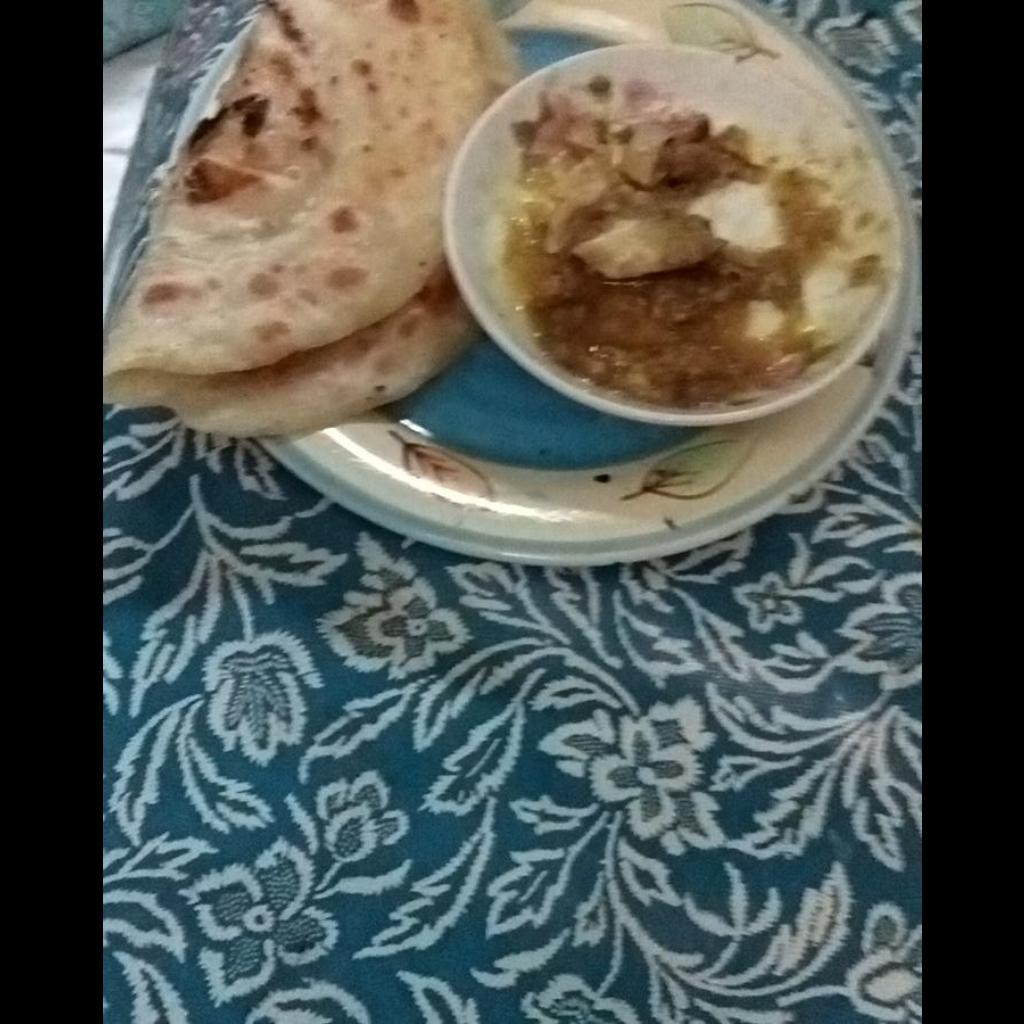beef: (498, 81, 887, 408)
ruti: (102, 0, 523, 440)
